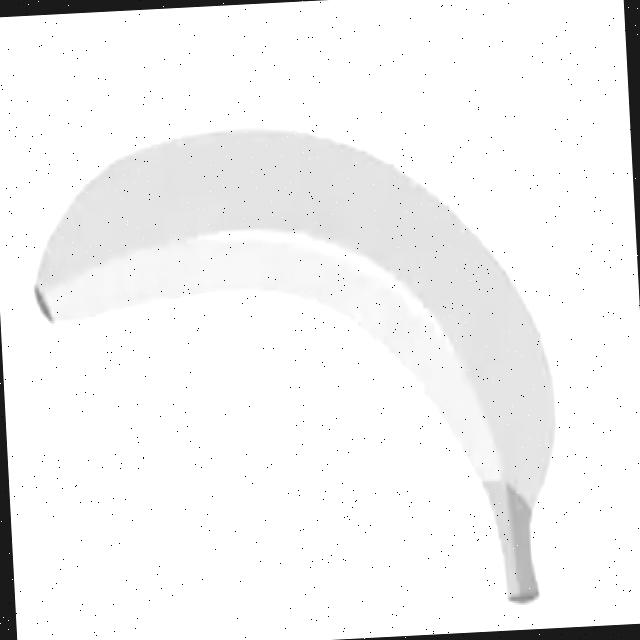banana: (24, 114, 568, 632)
